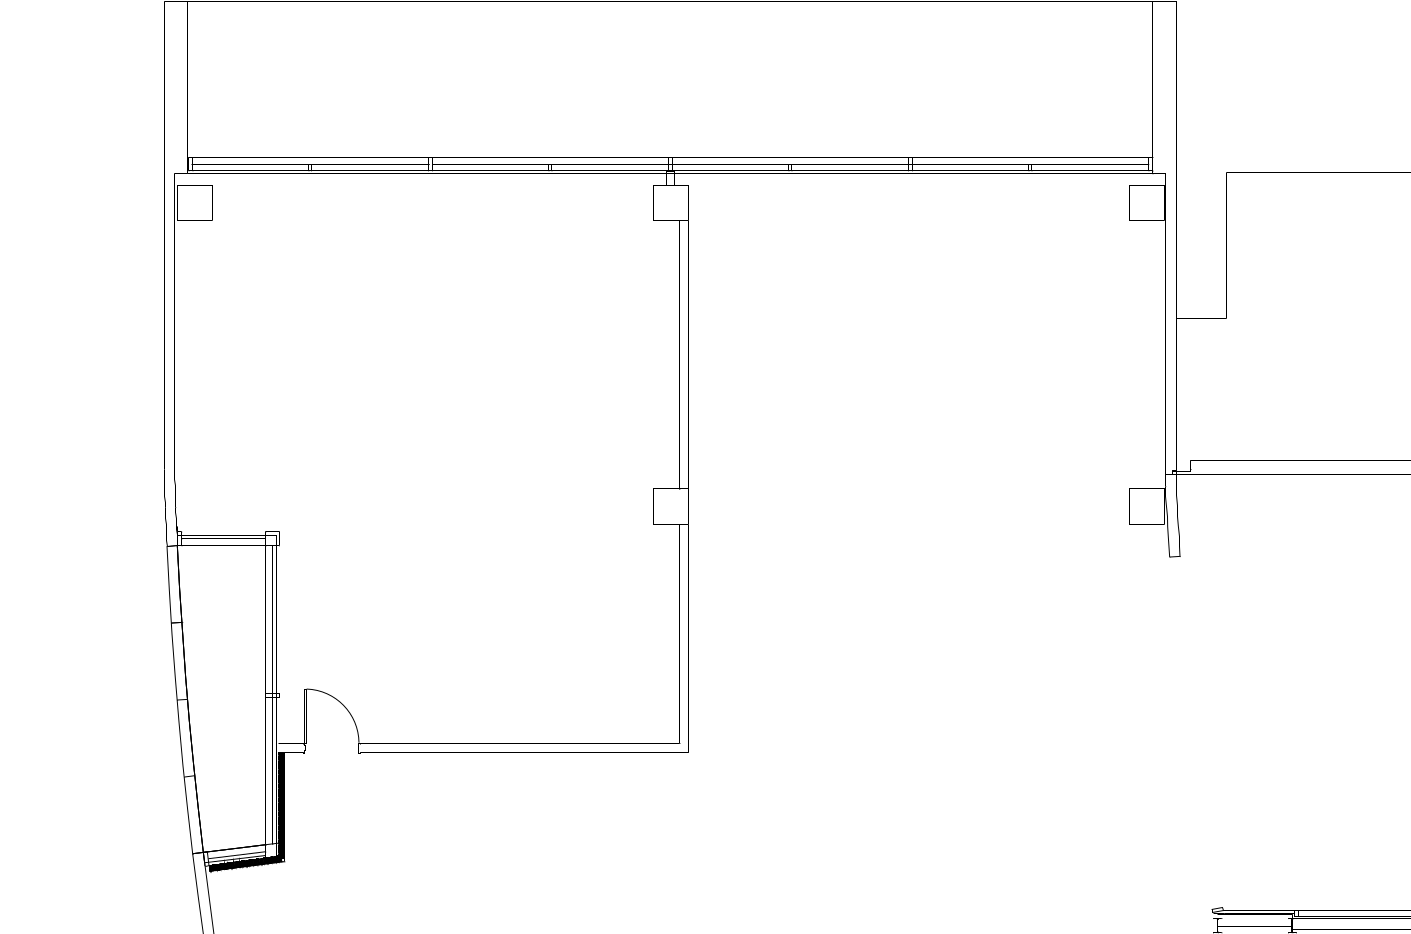door: (302, 680, 365, 751)
